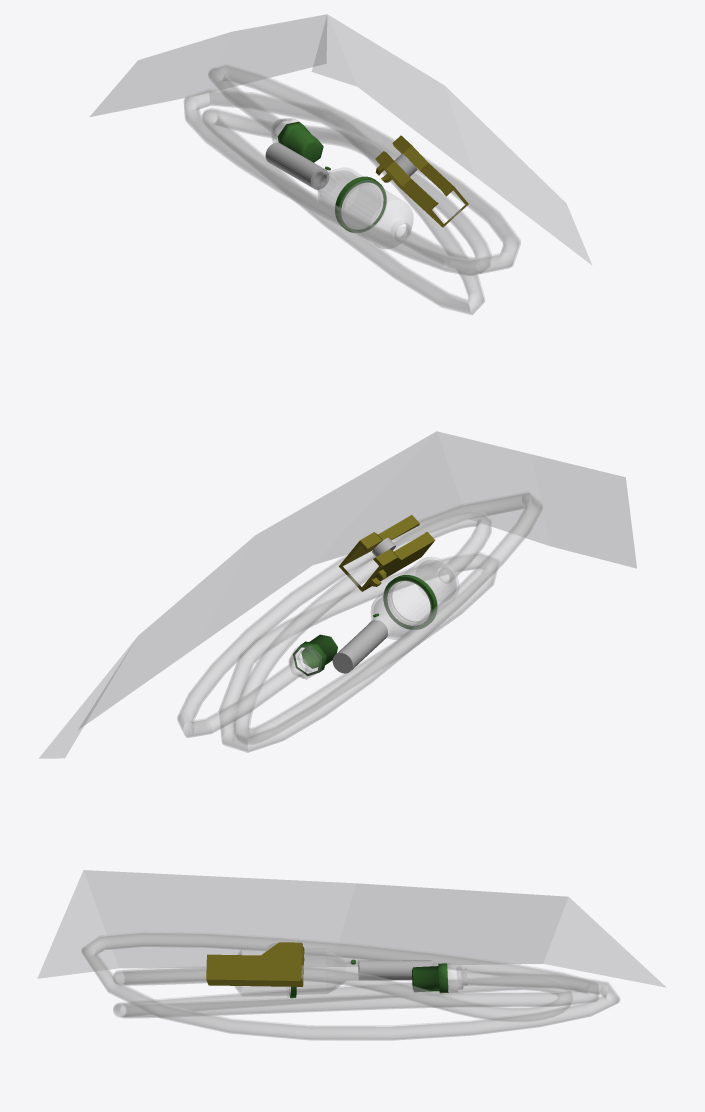
The model's file is 1_Infusion_packed_outside.gltf.
3 renders of one model, top to bottom at view 1: azimuth 30°, elevation 25°; view 2: azimuth 150°, elevation 25°; view 3: azimuth 270°, elevation 25°, orthographic. The views are drawn at different scales.
Parts seen in each view (by area): view 1: packungobenteil, Gutschlauch, Dickschlauch, Einsteller, Decker, Gruenrunddecker, Gruenring; view 2: packungobenteil, Gutschlauch, Dickschlauch, Einsteller, Decker, Gruenrunddecker, Gruenring, Schlauchende; view 3: packungobenteil, Gutschlauch, Einsteller, Dickschlauch, Decker, Gruenrunddecker, Schlauchende.
Part boxes in pixels (x1=…): packungobenteil: x1=90, y1=14, x2=591, y2=264; Gutschlauch: x1=184, y1=64, x2=520, y2=314; Dickschlauch: x1=311, y1=167, x2=413, y2=248; Einsteller: x1=375, y1=135, x2=468, y2=227; Decker: x1=265, y1=142, x2=329, y2=189; Gruenrunddecker: x1=277, y1=121, x2=323, y2=162; Gruenring: x1=325, y1=166, x2=386, y2=232; packungobenteil: x1=39, y1=431, x2=636, y2=758; Gutschlauch: x1=177, y1=492, x2=542, y2=752; Dickschlauch: x1=369, y1=557, x2=458, y2=639; Einsteller: x1=339, y1=515, x2=435, y2=591; Decker: x1=332, y1=620, x2=387, y2=673; Gruenrunddecker: x1=293, y1=634, x2=337, y2=676; Gruenring: x1=373, y1=575, x2=437, y2=629; Schlauchende: x1=288, y1=646, x2=321, y2=679; packungobenteil: x1=37, y1=870, x2=665, y2=986; Gutschlauch: x1=81, y1=932, x2=619, y2=1040; Einsteller: x1=206, y1=942, x2=304, y2=986; Dickschlauch: x1=234, y1=948, x2=359, y2=997; Decker: x1=358, y1=960, x2=431, y2=980; Gruenrunddecker: x1=411, y1=963, x2=448, y2=993; Schlauchende: x1=447, y1=962, x2=467, y2=992.
Size of the model in its own units: 2.58 by 0.9754 by 5.56.
